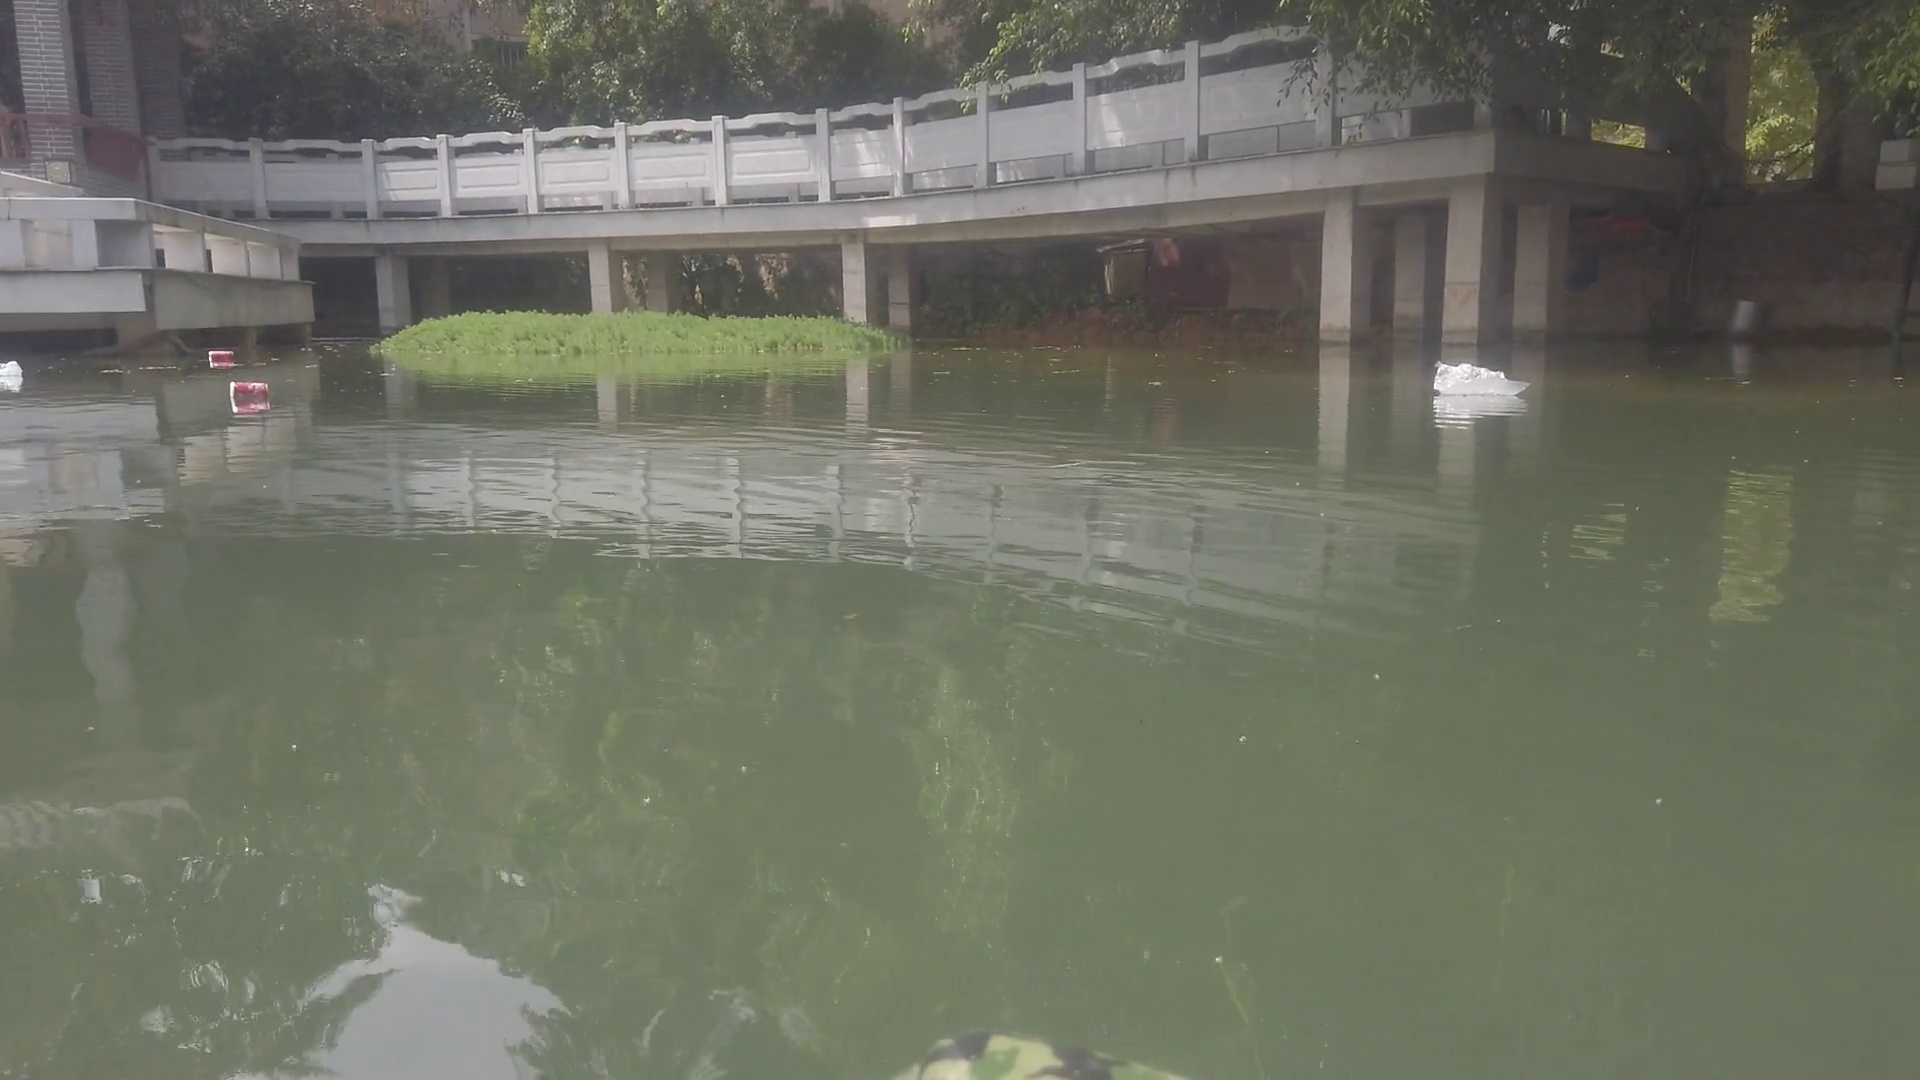bottle: (225, 382, 272, 400), (206, 348, 235, 361)
plastic: (1428, 363, 1528, 396), (1, 360, 22, 378)
